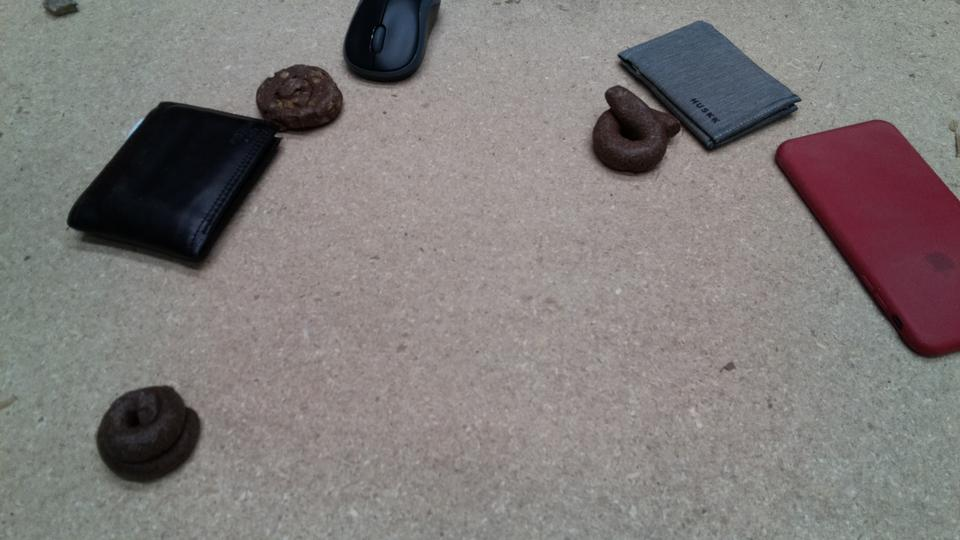poop: (95, 383, 206, 486), (589, 81, 682, 175), (253, 61, 344, 134)
